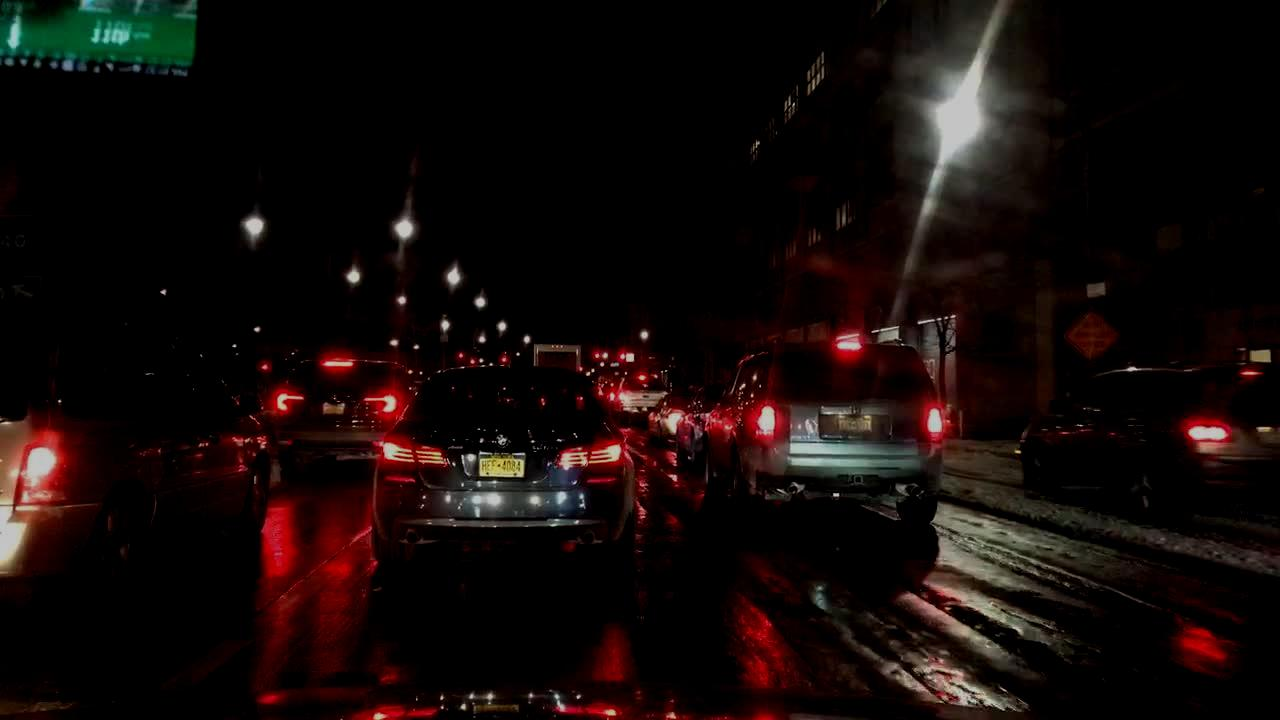Honda: (848, 404, 865, 420)
bmw: (492, 431, 511, 450)
